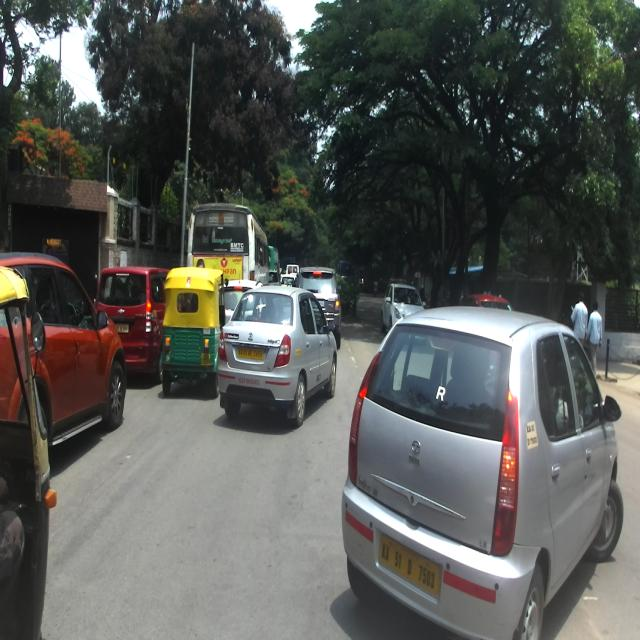auto ahead at: (159, 264, 222, 388)
car ahead at: (338, 297, 630, 640), (220, 285, 340, 432), (44, 258, 124, 438)
